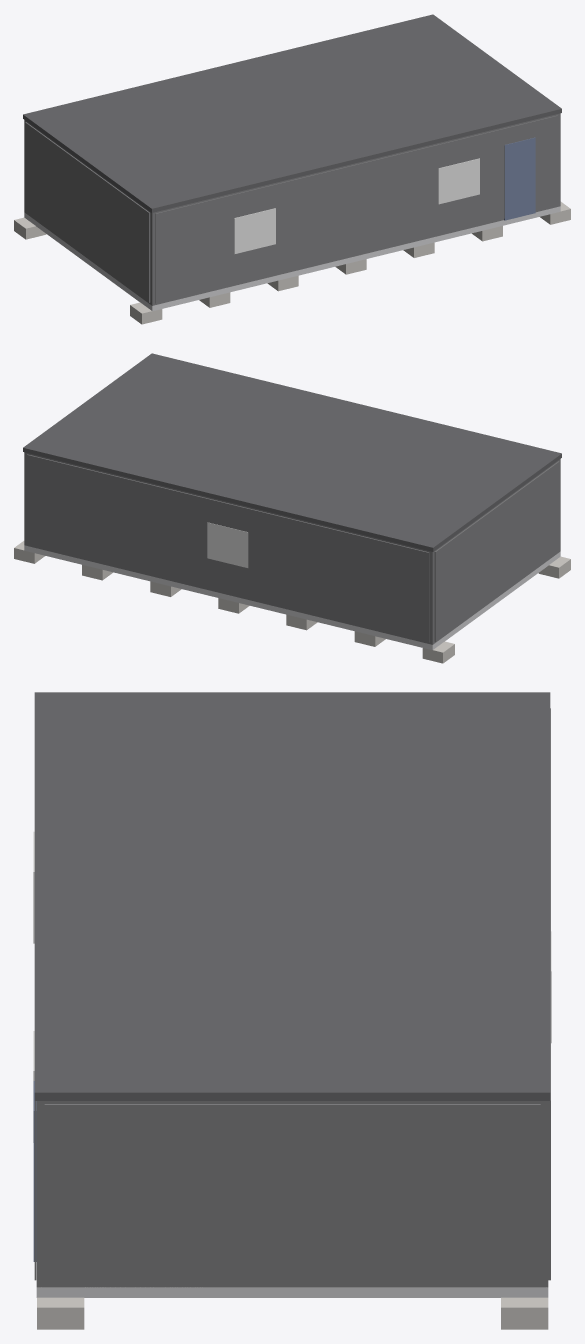
File: Studio-40-Base-CharcoalSilver-LOD3.glb
3 views of the same model, one above another, from view 1: azimuth 30°, elevation 25°; view 2: azimuth 150°, elevation 25°; view 3: azimuth 270°, elevation 25° (orthographic). The views are drawn at different scales.
Parts seen in each view (by area): view 1: RoofMain, ExteriorPanelsStandard, BaseFrame, WindowsStandard, ExteriorShell, FoundationBlocks, EntryDoor; view 2: RoofMain, ExteriorPanelsStandard, BaseFrame, ExteriorShell, FoundationBlocks, WindowsStandard; view 3: RoofMain, ExteriorPanelsStandard, ExteriorShell, BaseFrame, FoundationBlocks.
Part boxes in pixels (x1,y1,x2,y2): RoofMain: (23,14,561,212); ExteriorPanelsStandard: (25,115,557,303); BaseFrame: (24,206,560,311); WindowsStandard: (234,158,479,254); ExteriorShell: (24,113,560,305); FoundationBlocks: (14,201,570,324); EntryDoor: (504,137,535,220); RoofMain: (23,353,561,551); ExteriorPanelsStandard: (27,454,559,642); BaseFrame: (24,545,560,650); ExteriorShell: (24,452,560,644); FoundationBlocks: (14,541,570,663); WindowsStandard: (207,522,248,567); RoofMain: (34,692,550,1100); ExteriorPanelsStandard: (34,708,550,1284); ExteriorShell: (36,1101,548,1287); BaseFrame: (36,1287,548,1297); FoundationBlocks: (37,1297,548,1329).
Bounding box in the file's own units: 12.49 × 3.17 × 6.53.
